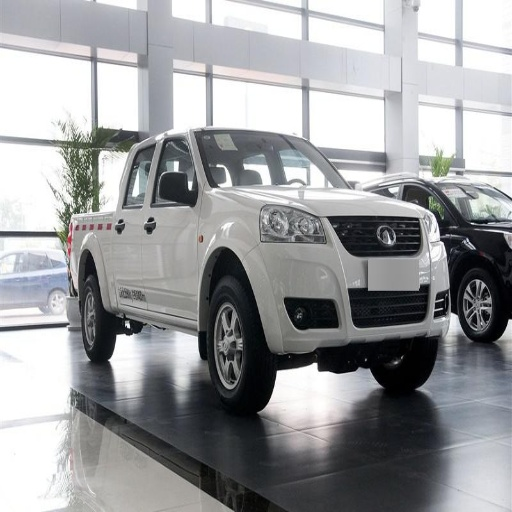back_right_door: (107, 143, 160, 303)
front_bumper: (250, 215, 471, 352)
front_right_door: (141, 135, 200, 313)
front_right_light: (261, 202, 326, 243)
